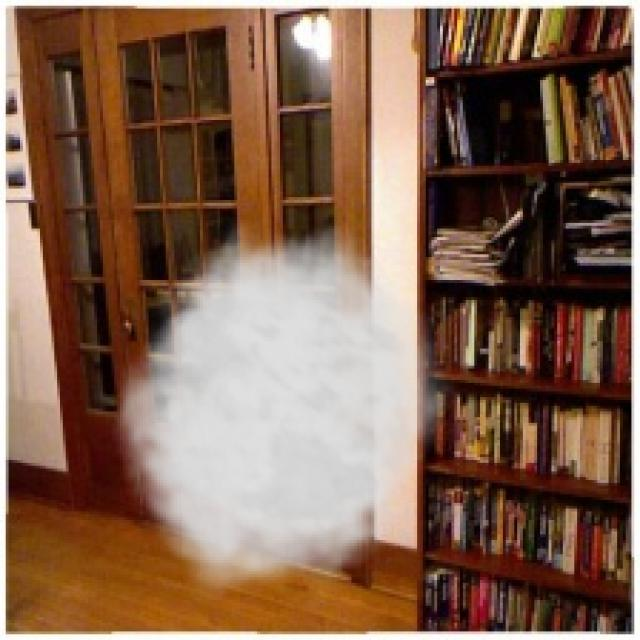smoke: (106, 220, 457, 606)
